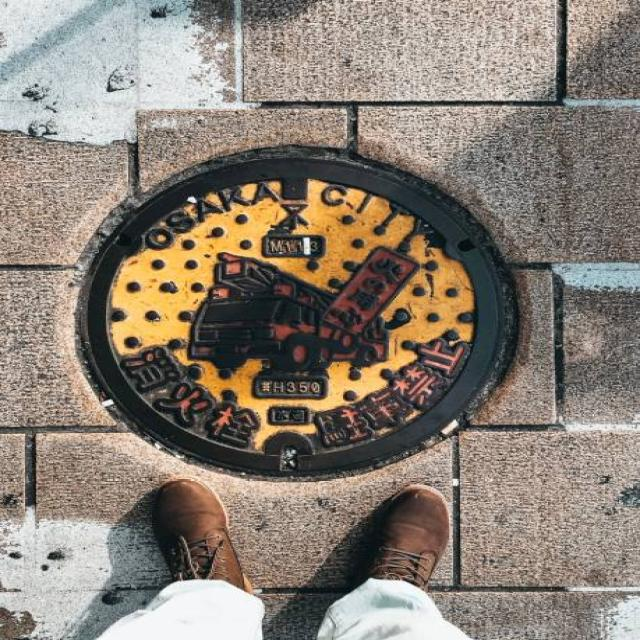Good: (63, 130, 534, 486)
